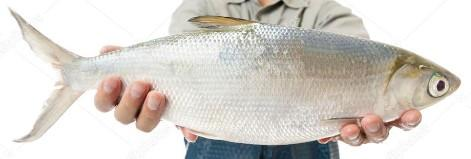Bangus: (5, 5, 466, 144)
